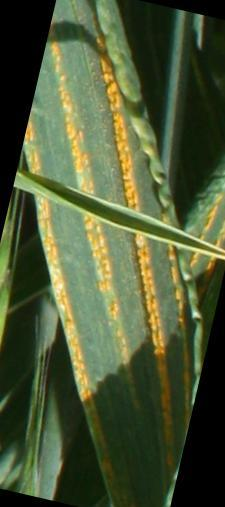Wheat: (131, 249, 186, 472), (90, 46, 153, 214)
